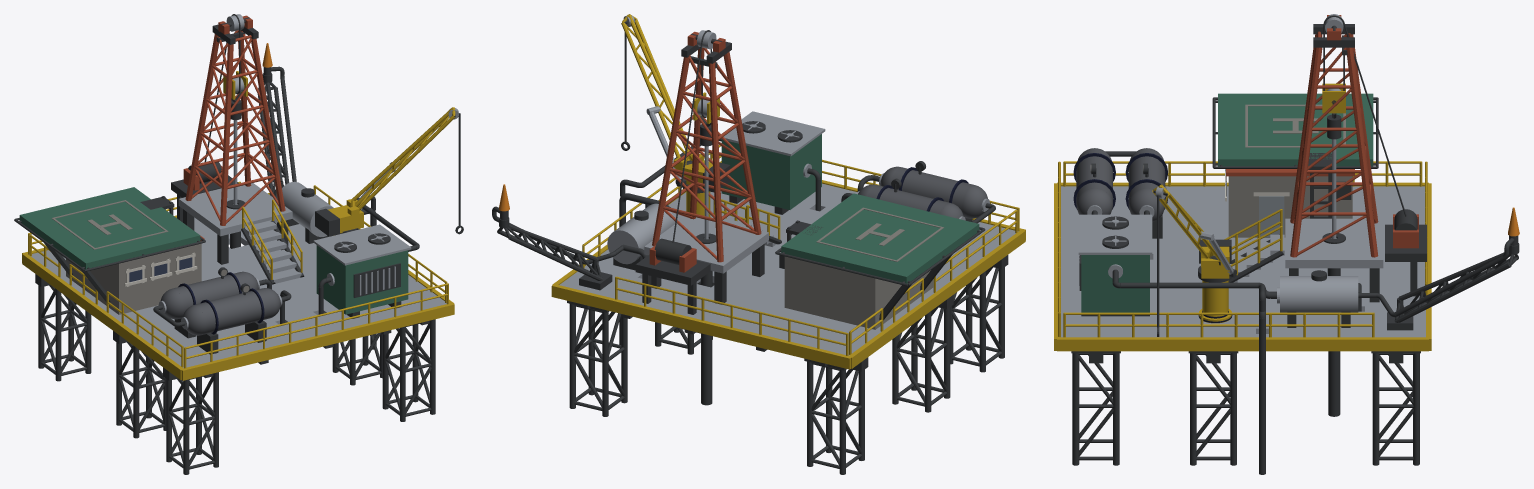
The model's file is offshore_oil_platform_lvl2.glb.
The picture shows the model from 3 angles, left to right: view 1: azimuth 30°, elevation 25°; view 2: azimuth 150°, elevation 25°; view 3: azimuth 270°, elevation 25°; orthographic projection. The views are drawn at different scales.
Visible parts, largest first — view 1: offshore_oil_platform; view 2: offshore_oil_platform; view 3: offshore_oil_platform.
Boxes of the visible parts, bbox=[...] form: offshore_oil_platform: bbox=[14, 14, 463, 474]; offshore_oil_platform: bbox=[492, 14, 1025, 474]; offshore_oil_platform: bbox=[1054, 14, 1519, 474].
Bounding box in the file's own units: 0.95 × 0.8664 × 0.9168.
